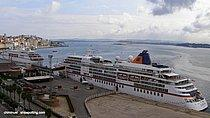Ship: (61, 47, 210, 115)
